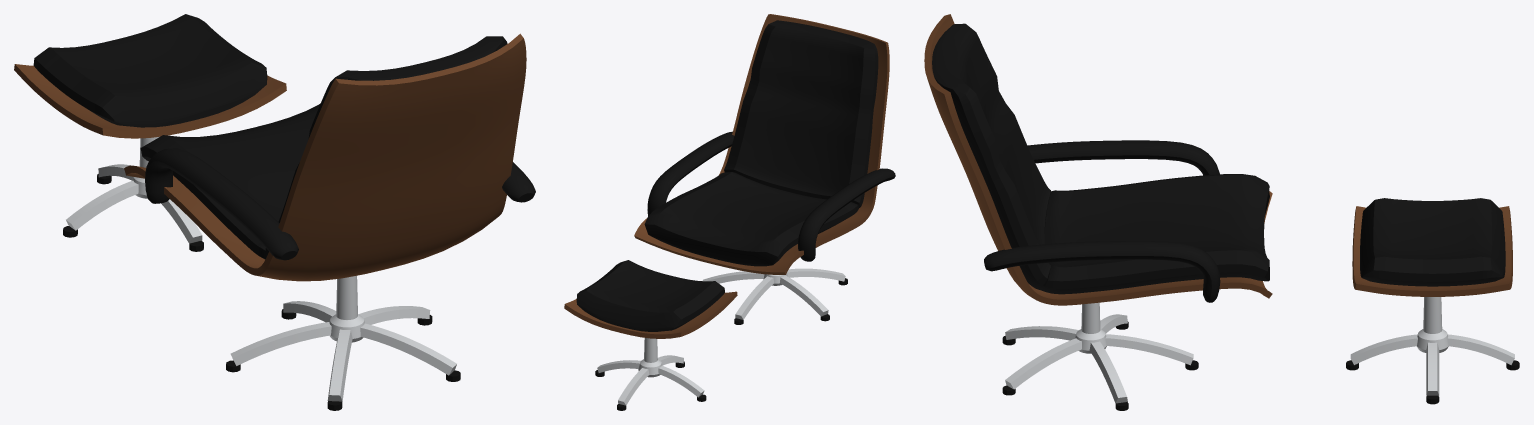
File: furniture.statement.lounge_chair.glb
The picture shows the model from 3 angles, left to right: view 1: azimuth 30°, elevation 25°; view 2: azimuth 150°, elevation 25°; view 3: azimuth 270°, elevation 25°; orthographic projection. The views are drawn at different scales.
Visible parts, largest first — view 1: frame__hardwood, ottoman__leather_black, cushions__leather_black, frame__aluminium, frame__leather_black, ottoman__hardwood, ottoman__aluminium, frame__plastic_black; view 2: cushions__leather_black, ottoman__leather_black, frame__hardwood, frame__leather_black, frame__aluminium, ottoman__aluminium, ottoman__hardwood; view 3: cushions__leather_black, ottoman__leather_black, frame__leather_black, frame__hardwood, frame__aluminium, ottoman__aluminium, ottoman__hardwood.
Boxes of the visible parts, left/top/right/bottom form: frame__hardwood: left=124, top=33, right=526, bottom=281; ottoman__leather_black: left=33, top=14, right=267, bottom=127; cushions__leather_black: left=140, top=36, right=507, bottom=259; frame__aluminium: left=230, top=275, right=456, bottom=401; frame__leather_black: left=145, top=148, right=535, bottom=260; ottoman__hardwood: left=14, top=64, right=286, bottom=138; ottoman__aluminium: left=66, top=136, right=202, bottom=243; frame__plastic_black: left=226, top=309, right=460, bottom=410; cushions__leather_black: left=644, top=20, right=878, bottom=266; ottoman__leather_black: left=576, top=260, right=724, bottom=331; frame__hardwood: left=634, top=14, right=889, bottom=274; frame__leather_black: left=647, top=131, right=895, bottom=261; frame__aluminium: left=702, top=268, right=845, bottom=319; ottoman__aluminium: left=597, top=338, right=704, bottom=405; ottoman__hardwood: left=564, top=291, right=737, bottom=338; cushions__leather_black: left=932, top=23, right=1269, bottom=294; ottoman__leather_black: left=1360, top=198, right=1505, bottom=286; frame__leather_black: left=984, top=140, right=1220, bottom=302; frame__hardwood: left=924, top=14, right=1272, bottom=305; frame__aluminium: left=1005, top=302, right=1193, bottom=403; ottoman__aluminium: left=1350, top=297, right=1514, bottom=395; ottoman__hardwood: left=1352, top=206, right=1512, bottom=296.
Size of the model in its own units: 0.89 by 1.17 by 2.
